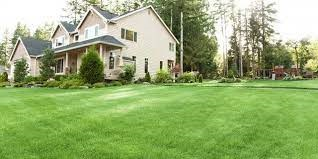grass: (2, 87, 315, 155)
